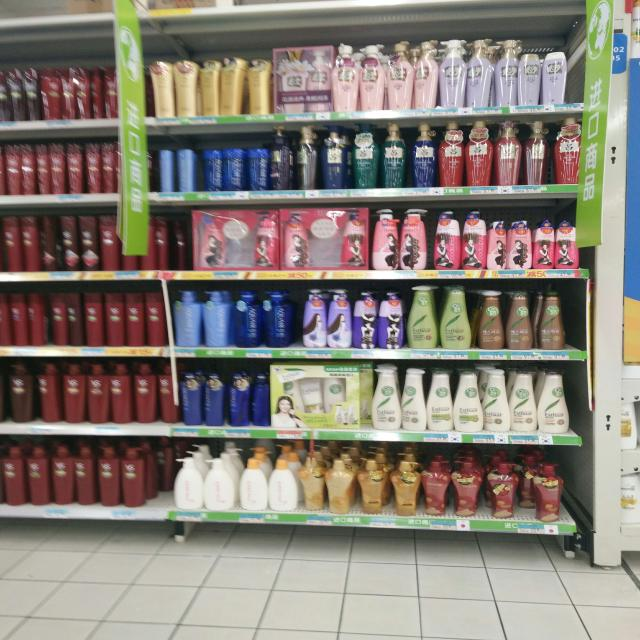unorganised: (267, 359, 374, 430), (181, 370, 269, 428), (1, 293, 85, 346), (482, 366, 539, 432), (6, 361, 63, 422), (496, 38, 542, 107), (197, 58, 247, 115), (521, 460, 561, 519), (1, 214, 39, 271), (466, 38, 495, 107), (157, 149, 199, 192), (402, 366, 428, 431), (297, 456, 326, 512), (74, 443, 96, 508), (37, 213, 60, 269)
